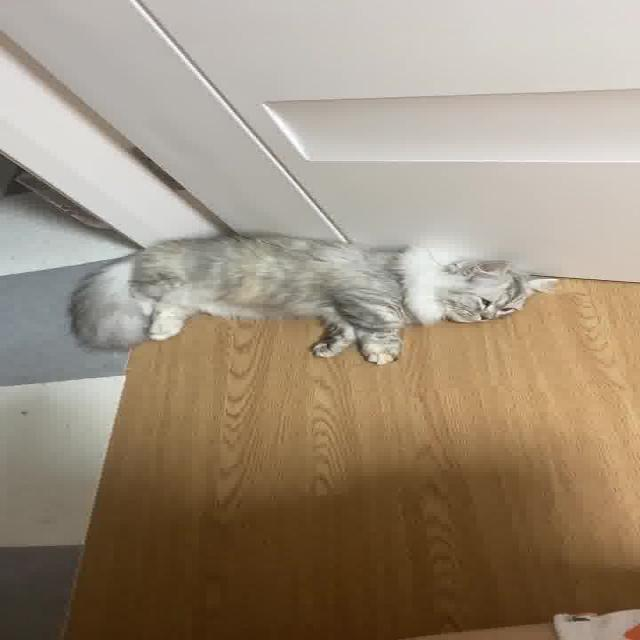cat: (51, 202, 570, 370)
